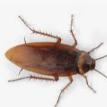cockroach: (4, 36, 96, 81)
